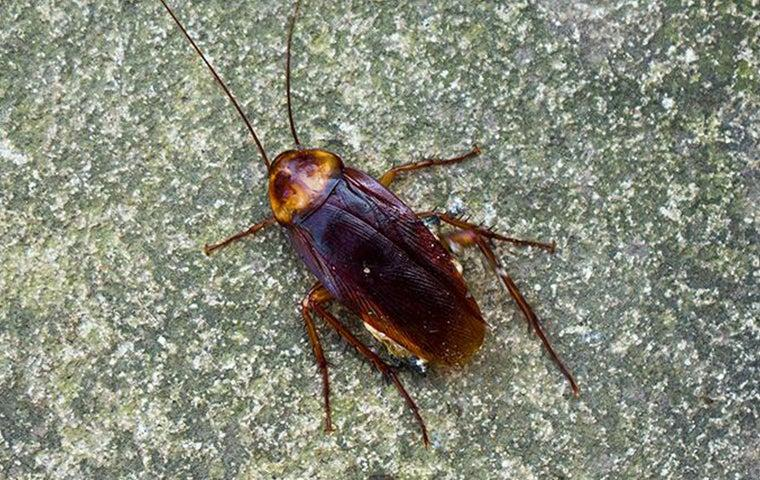cockroach: (260, 142, 490, 374)
